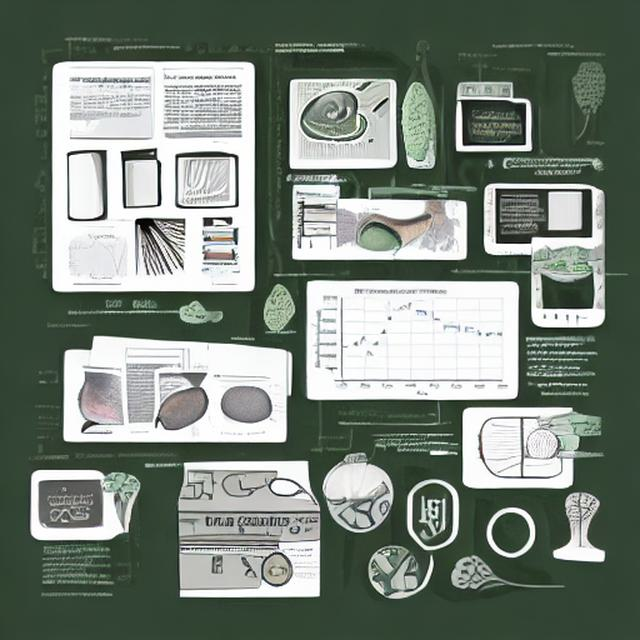Graph: (313, 284, 511, 398), (67, 231, 133, 281), (464, 112, 526, 146)
